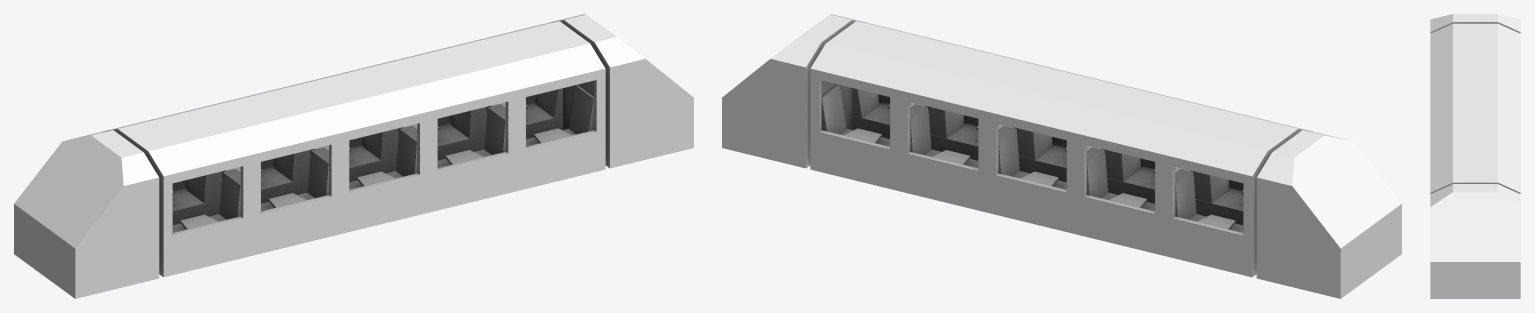
The model's file is Train.FBX.
3 views of the same model, side by side, from view 1: azimuth 30°, elevation 25°; view 2: azimuth 150°, elevation 25°; view 3: azimuth 270°, elevation 25° (orthographic). The views are drawn at different scales.
Parts seen in each view (by area): view 1: m_Train; view 2: m_Train; view 3: m_Train.
Boxes of the visible parts, x1=… form: m_Train: x1=14, y1=14, x2=693, y2=298; m_Train: x1=722, y1=14, x2=1401, y2=298; m_Train: x1=1430, y1=14, x2=1520, y2=298.
Bounding box in the file's own units: 1400 × 240 × 248.
